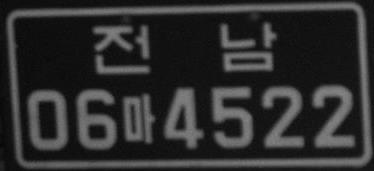0: (26, 88, 69, 151)
2: (312, 83, 356, 149), (260, 84, 305, 148)
4: (163, 86, 204, 149)
5: (210, 85, 255, 149)
6: (75, 87, 118, 150)
마: (121, 93, 155, 144)
전남_D: (92, 22, 277, 75)
